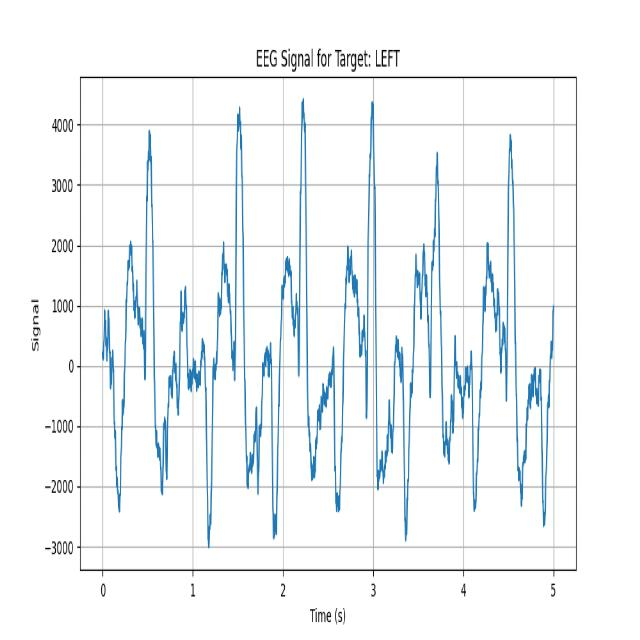LEFT: (203, 94, 269, 546), (269, 93, 333, 539), (333, 91, 397, 537), (105, 125, 173, 524), (474, 105, 535, 536), (398, 91, 457, 535)
